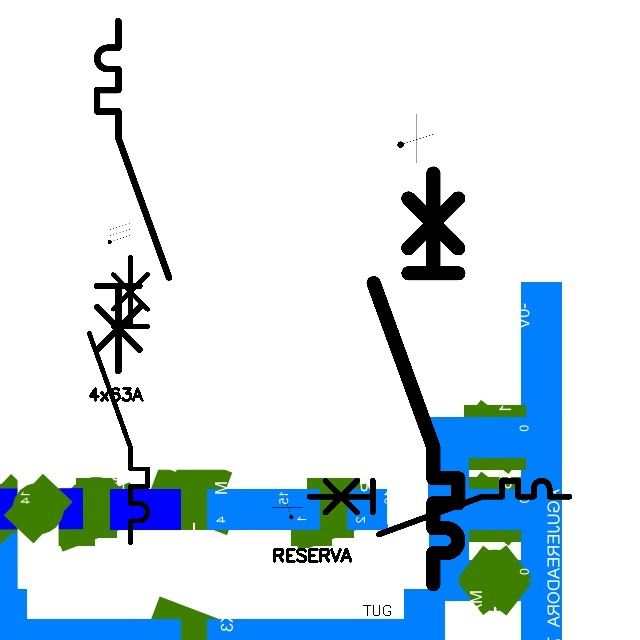interruptor_termomagnetico: (363, 162, 469, 594), (88, 12, 178, 380), (82, 249, 155, 549), (302, 474, 575, 541)
